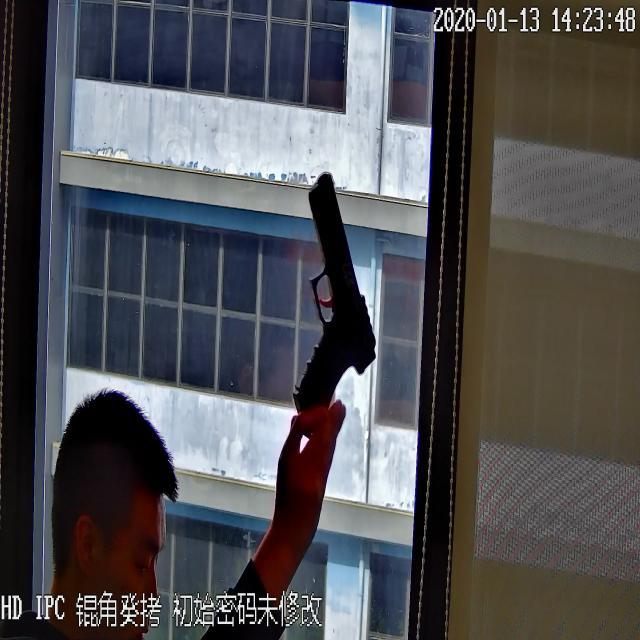gun-knife-thesis - v11 Yolov5 augmented: (279, 162, 376, 437)
